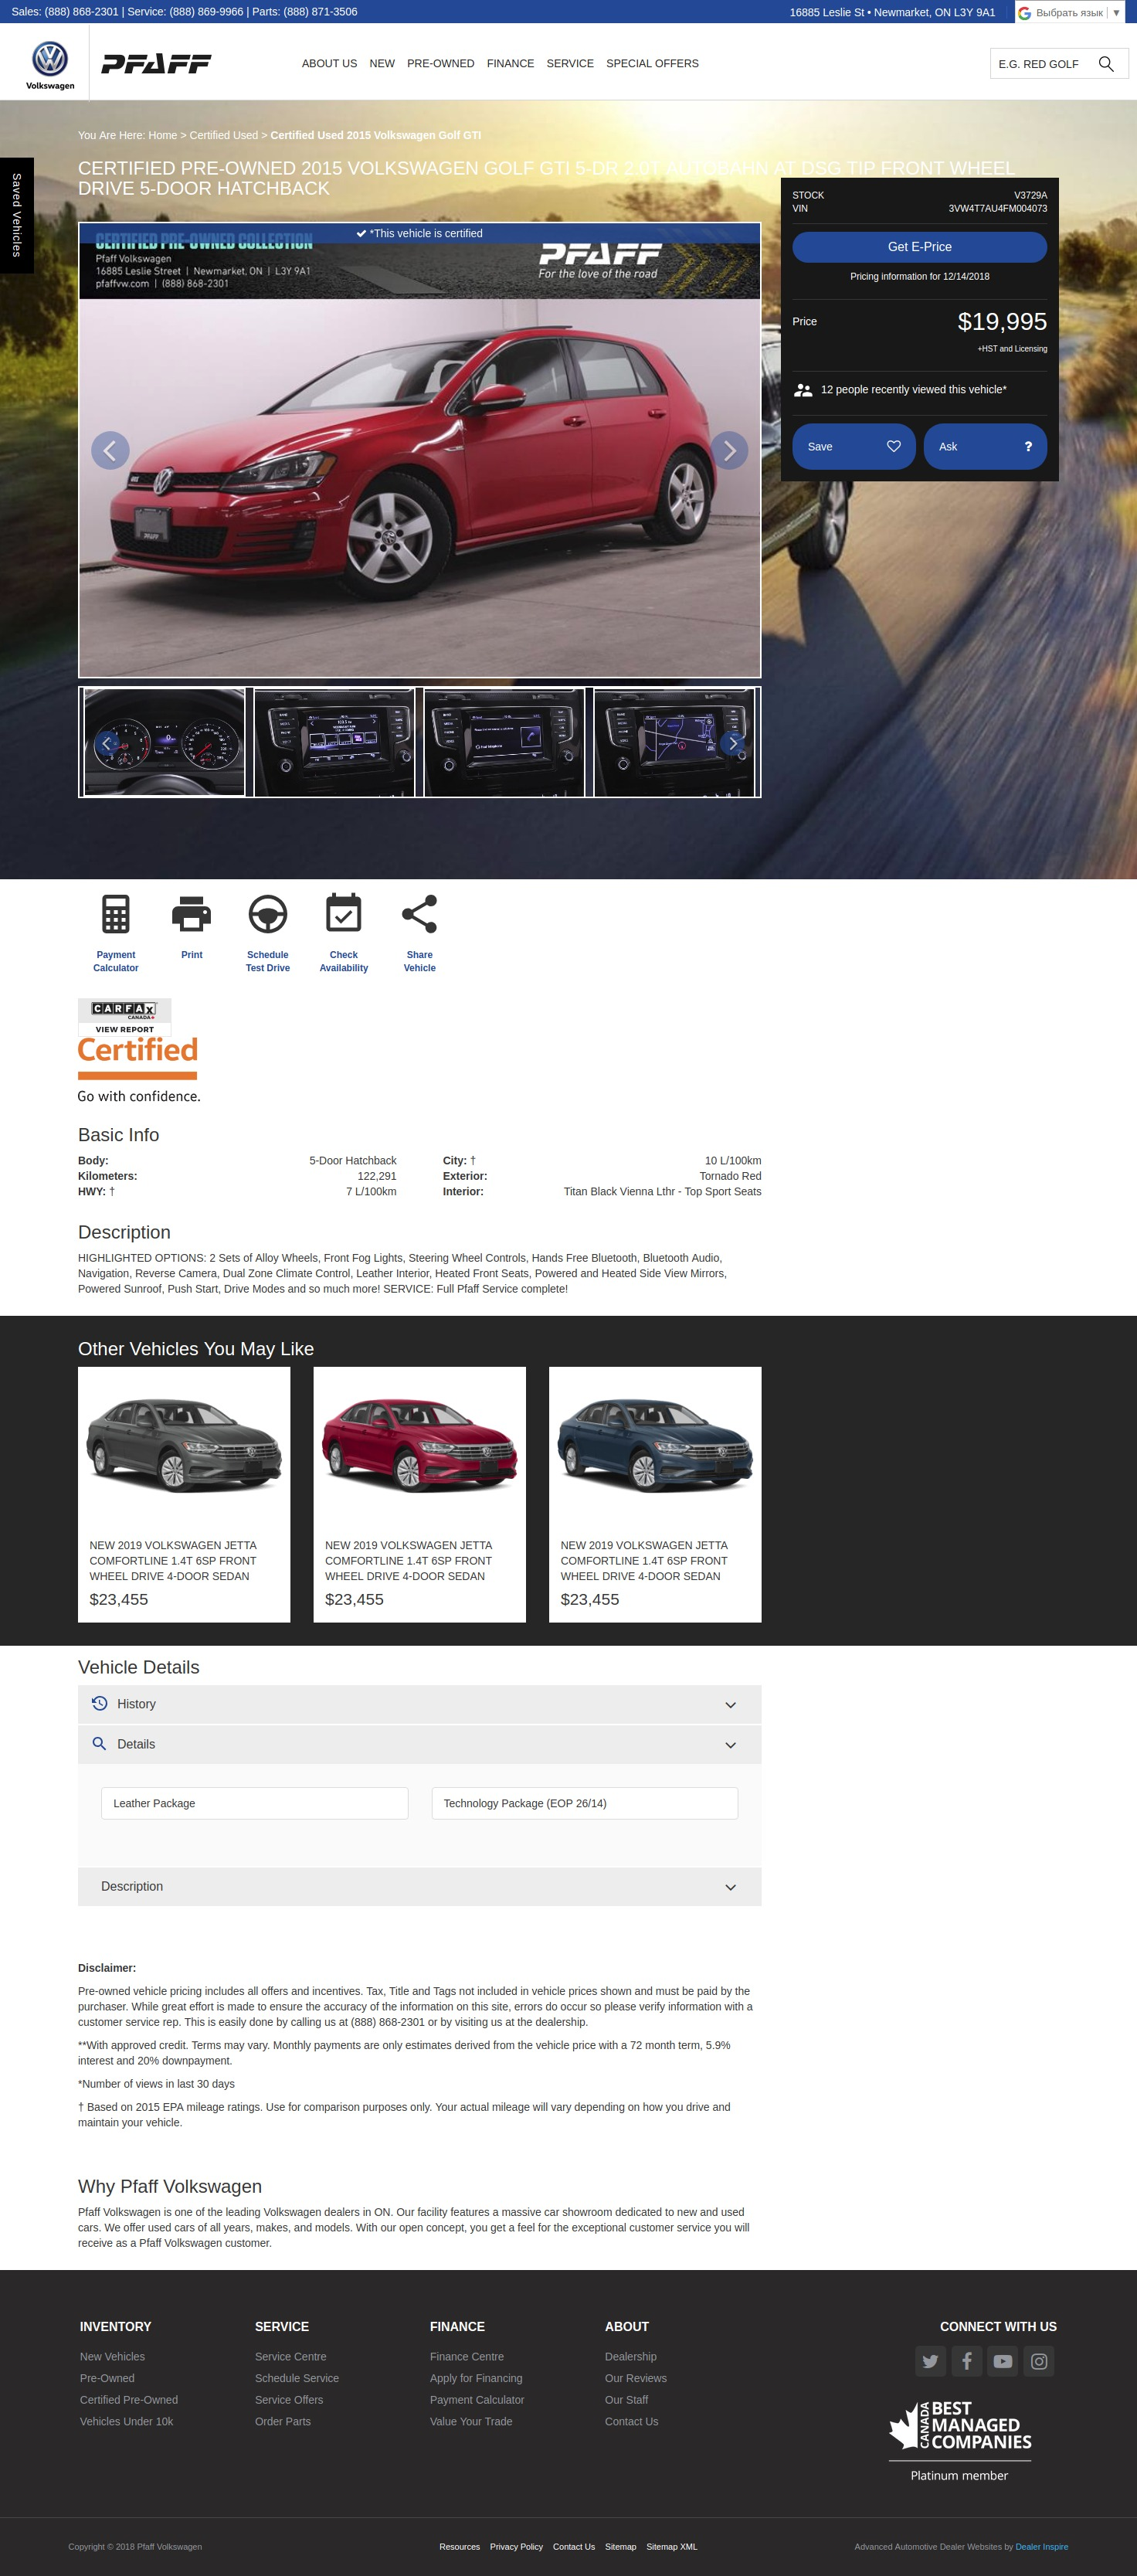car: (730, 739, 738, 752)
